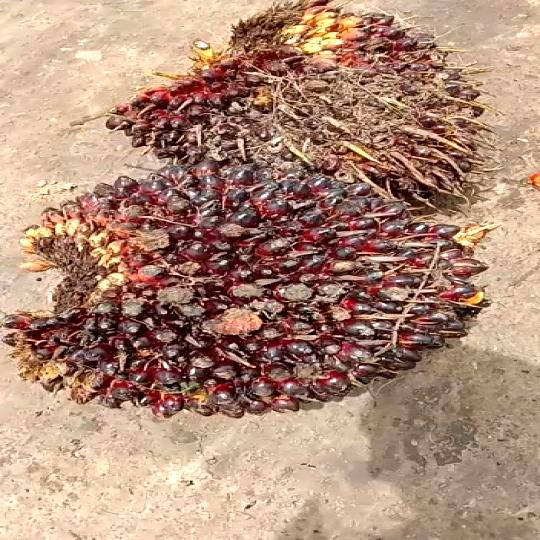kurang masak: (0, 144, 529, 411), (115, 0, 540, 200)
